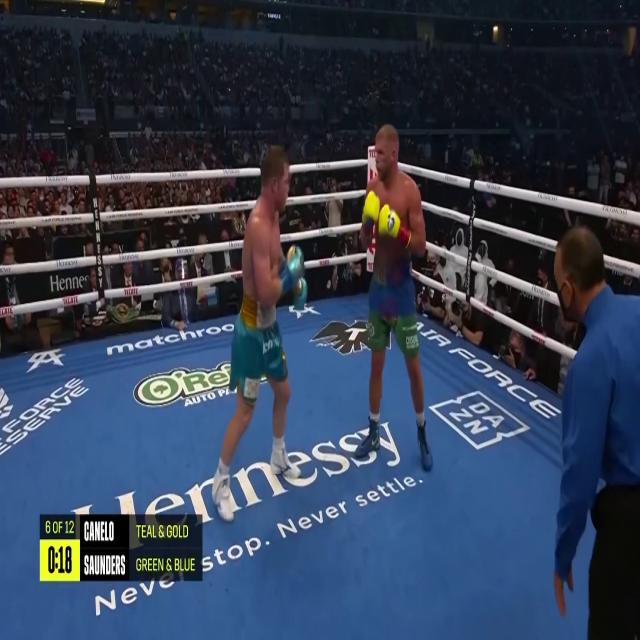boxer_1: (374, 125, 409, 257)
boxer_2: (241, 144, 289, 303)
gloves_1: (360, 191, 410, 251)
gloves_2: (278, 247, 307, 310)
